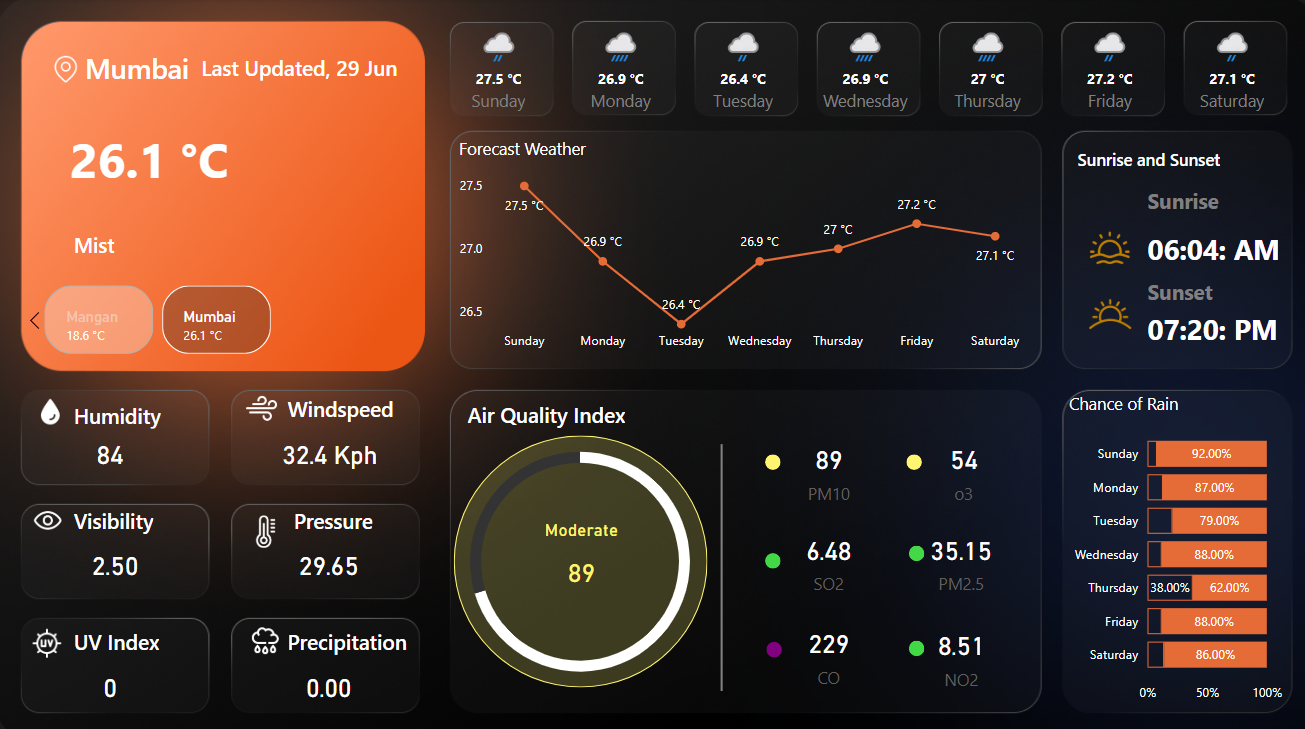

Layout of this report page (visuals, bound fields, positions):
{"tool":"powerbi","page":{"name":"Page 1","canvas":[1280,720],"ordinal":0},"visuals":[{"type":"advancedSlicerVisual","fields":{"Values":["Location.location.name"]},"box":[23.3,273.1,381.5,76.8],"z":0},{"type":"shape","box":[72.8,107.1,164.8,94.8],"z":1000},{"type":"shape","box":[75.6,217,232.2,41.2],"z":2000},{"type":"shape","box":[86.6,41.9,100.5,48.9],"z":3000},{"type":"image","box":[50.8,46.7,35.7,44],"z":4000},{"type":"shape","box":[199,42.5,205.8,48],"z":5000},{"type":"image","box":[24.7,483.9,53.8,40.7],"z":6000},{"type":"shape","box":[75.6,483.9,100.3,40.7],"z":7000},{"type":"image","box":[29.1,380.7,49.4,36.3],"z":8000},{"type":"shape","box":[75.6,380.7,100.3,42.1],"z":9000},{"type":"image","box":[231.1,374.9,50.9,42.1],"z":10000},{"type":"shape","box":[281.9,374.9,123.5,42.1],"z":11000},{"type":"image","box":[232.5,494.1,56.7,40.7],"z":12000},{"type":"shape","box":[287.7,483.9,100.3,40.7],"z":13000},{"type":"image","box":[21.8,603.1,56.7,39.2],"z":14000},{"type":"shape","box":[75.6,600.2,100.3,42.1],"z":15000},{"type":"image","box":[232.5,600.2,55.2,42.1],"z":16000},{"type":"shape","box":[281.9,600.2,123.5,42.1],"z":17000},{"type":"card","fields":{"Values":["Sum(Current.current.humidity)"]},"box":[71.2,417.1,79.9,46.5],"z":18000},{"type":"card","fields":{"Values":["_Measure.Wind_Speed"]},"box":[270.3,417.1,106.1,46.5],"z":19000},{"type":"card","fields":{"Values":["Sum(Current.current.pressure_in)"]},"box":[281.9,524.6,79.9,46.5],"z":20000},{"type":"card","fields":{"Values":["Sum(Current.current.vis_km)"]},"box":[75.6,524.6,79.9,46.5],"z":21000},{"type":"card","fields":{"Values":["Sum(Current.current.uv)"]},"box":[71.2,642.3,79.9,46.5],"z":22000},{"type":"card","fields":{"Values":["Sum(Current.current.precip_in)"]},"box":[281.9,642.3,79.9,46.5],"z":23000},{"type":"advancedSlicerVisual","fields":{"Values":["Forecast_Day.Day_Name"]},"box":[425.8,16,834.2,101.7],"z":24000},{"type":"lineChart","title":"Forecast Weather","fields":{"Y":["Sum(Forecast_Day.forecast.forecastday.day.avgtemp_c)"],"Category":["Forecast_Day.Day_Name"]},"box":[443.3,133.9,558,215.2],"z":25000},{"type":"shape","box":[1044.3,133.9,202.5,43],"z":26000},{"type":"shape","box":[1112.9,219.6,134.5,45.3],"z":27000},{"type":"shape","box":[1112.9,300.5,134.5,37],"z":28000},{"type":"shape","box":[1112.9,177,134.5,35.7],"z":29000},{"type":"shape","box":[1112.9,264.8,134.5,35.7],"z":30000},{"type":"image","box":[1044.3,273.1,63.1,64.5],"z":31000},{"type":"image","box":[1044.3,216.8,63.1,48],"z":32000},{"type":"hundredPercentStackedBarChart","title":"Chance of Rain","fields":{"Y":["_Measure.Left_value_Rain","Sum(Forecast_Day.forecast.forecastday.day.daily_chance_of_rain)"],"Category":["Forecast_Day.Day_Name"]},"box":[1032,380,216.2,309.1],"z":33000},{"type":"shape","box":[456.1,380,217.9,43.9],"z":34000},{"type":"card","fields":{"Values":["Sum(Current.current.air_quality.o3)"]},"box":[881.7,417.2,106.4,77.7],"z":35000},{"type":"card","fields":{"Values":["Sum(Current.current.air_quality.pm2_5)"]},"box":[880,506.7,106.4,74.3],"z":36000},{"type":"card","fields":{"Values":["Sum(Current.current.air_quality.no2)"]},"box":[880,603,106.4,65.9],"z":37000},{"type":"card","fields":{"Values":["Sum(Current.current.air_quality.pm10)"]},"box":[751.7,417.2,106.4,77.7],"z":38000},{"type":"card","fields":{"Values":["Sum(Current.current.air_quality.so2)"]},"box":[751.7,506.7,106.4,74.3],"z":39000},{"type":"card","fields":{"Values":["Sum(Current.current.air_quality.co)"]},"box":[751.7,599.6,106.4,69.3],"z":40000},{"type":"shape","box":[743.2,440.9,15.2,15.2],"z":41000},{"type":"shape","box":[744.9,621.6,15.2,15.2],"z":42000},{"type":"shape","box":[743.2,535.4,15.2,15.2],"z":43000},{"type":"shape","box":[880,440.9,15.2,15.2],"z":44000},{"type":"shape","box":[881.7,528.7,15.2,15.2],"z":45000},{"type":"shape","box":[881.7,619.9,15.2,15.2],"z":46000},{"type":"shape","box":[660.4,430.7,82.8,238.2],"z":47000},{"type":"card","fields":{"Values":["Sum(Current.current.air_quality.pm10)"]},"box":[518.6,503.4,94.6,82.8],"z":48000},{"type":"shape","box":[442.5,422.3,244.9,243.2],"z":49000},{"type":"donutChart","fields":{"Y":["_Measure.Left_Value_PM10","Sum(Current.current.air_quality.pm10)"]},"box":[410.5,407.1,309.1,275.3],"z":50000}]}

Visuals, with their boxes in screenshot pixels (x1, y1, x2, y2), scaled from the page's 1280x720 canvas onto the 1305x729 screenshot:
advancedSlicerVisual - Location.location.name: (left=24, top=277, right=413, bottom=354)
shape: (left=74, top=108, right=242, bottom=204)
shape: (left=77, top=220, right=314, bottom=261)
shape: (left=88, top=42, right=191, bottom=92)
image: (left=52, top=47, right=88, bottom=92)
shape: (left=203, top=43, right=413, bottom=92)
image: (left=25, top=490, right=80, bottom=531)
shape: (left=77, top=490, right=179, bottom=531)
image: (left=30, top=385, right=80, bottom=422)
shape: (left=77, top=385, right=179, bottom=428)
image: (left=236, top=380, right=288, bottom=422)
shape: (left=287, top=380, right=413, bottom=422)
image: (left=237, top=500, right=295, bottom=541)
shape: (left=293, top=490, right=396, bottom=531)
image: (left=22, top=611, right=80, bottom=650)
shape: (left=77, top=608, right=179, bottom=650)
image: (left=237, top=608, right=293, bottom=650)
shape: (left=287, top=608, right=413, bottom=650)
card - Sum(Current.current.humidity): (left=73, top=422, right=154, bottom=469)
card - _Measure.Wind_Speed: (left=276, top=422, right=384, bottom=469)
card - Sum(Current.current.pressure_in): (left=287, top=531, right=369, bottom=578)
card - Sum(Current.current.vis_km): (left=77, top=531, right=159, bottom=578)
card - Sum(Current.current.uv): (left=73, top=650, right=154, bottom=697)
card - Sum(Current.current.precip_in): (left=287, top=650, right=369, bottom=697)
advancedSlicerVisual - Forecast_Day.Day_Name: (left=434, top=16, right=1285, bottom=119)
"Forecast Weather" lineChart: (left=452, top=136, right=1021, bottom=353)
shape: (left=1065, top=136, right=1271, bottom=179)
shape: (left=1135, top=222, right=1272, bottom=268)
shape: (left=1135, top=304, right=1272, bottom=342)
shape: (left=1135, top=179, right=1272, bottom=215)
shape: (left=1135, top=268, right=1272, bottom=304)
image: (left=1065, top=277, right=1129, bottom=342)
image: (left=1065, top=220, right=1129, bottom=268)
"Chance of Rain" hundredPercentStackedBarChart: (left=1052, top=385, right=1273, bottom=698)
shape: (left=465, top=385, right=687, bottom=429)
card - Sum(Current.current.air_quality.o3): (left=899, top=422, right=1007, bottom=501)
card - Sum(Current.current.air_quality.pm2_5): (left=897, top=513, right=1006, bottom=588)
card - Sum(Current.current.air_quality.no2): (left=897, top=611, right=1006, bottom=677)
card - Sum(Current.current.air_quality.pm10): (left=766, top=422, right=875, bottom=501)
card - Sum(Current.current.air_quality.so2): (left=766, top=513, right=875, bottom=588)
card - Sum(Current.current.air_quality.co): (left=766, top=607, right=875, bottom=677)
shape: (left=758, top=446, right=773, bottom=462)
shape: (left=759, top=629, right=775, bottom=645)
shape: (left=758, top=542, right=773, bottom=557)
shape: (left=897, top=446, right=913, bottom=462)
shape: (left=899, top=535, right=914, bottom=551)
shape: (left=899, top=628, right=914, bottom=643)
shape: (left=673, top=436, right=758, bottom=677)
card - Sum(Current.current.air_quality.pm10): (left=529, top=510, right=625, bottom=594)
shape: (left=451, top=428, right=701, bottom=674)
donutChart - _Measure.Left_Value_PM10 x Sum(Current.current.air_quality.pm10): (left=419, top=412, right=734, bottom=691)
